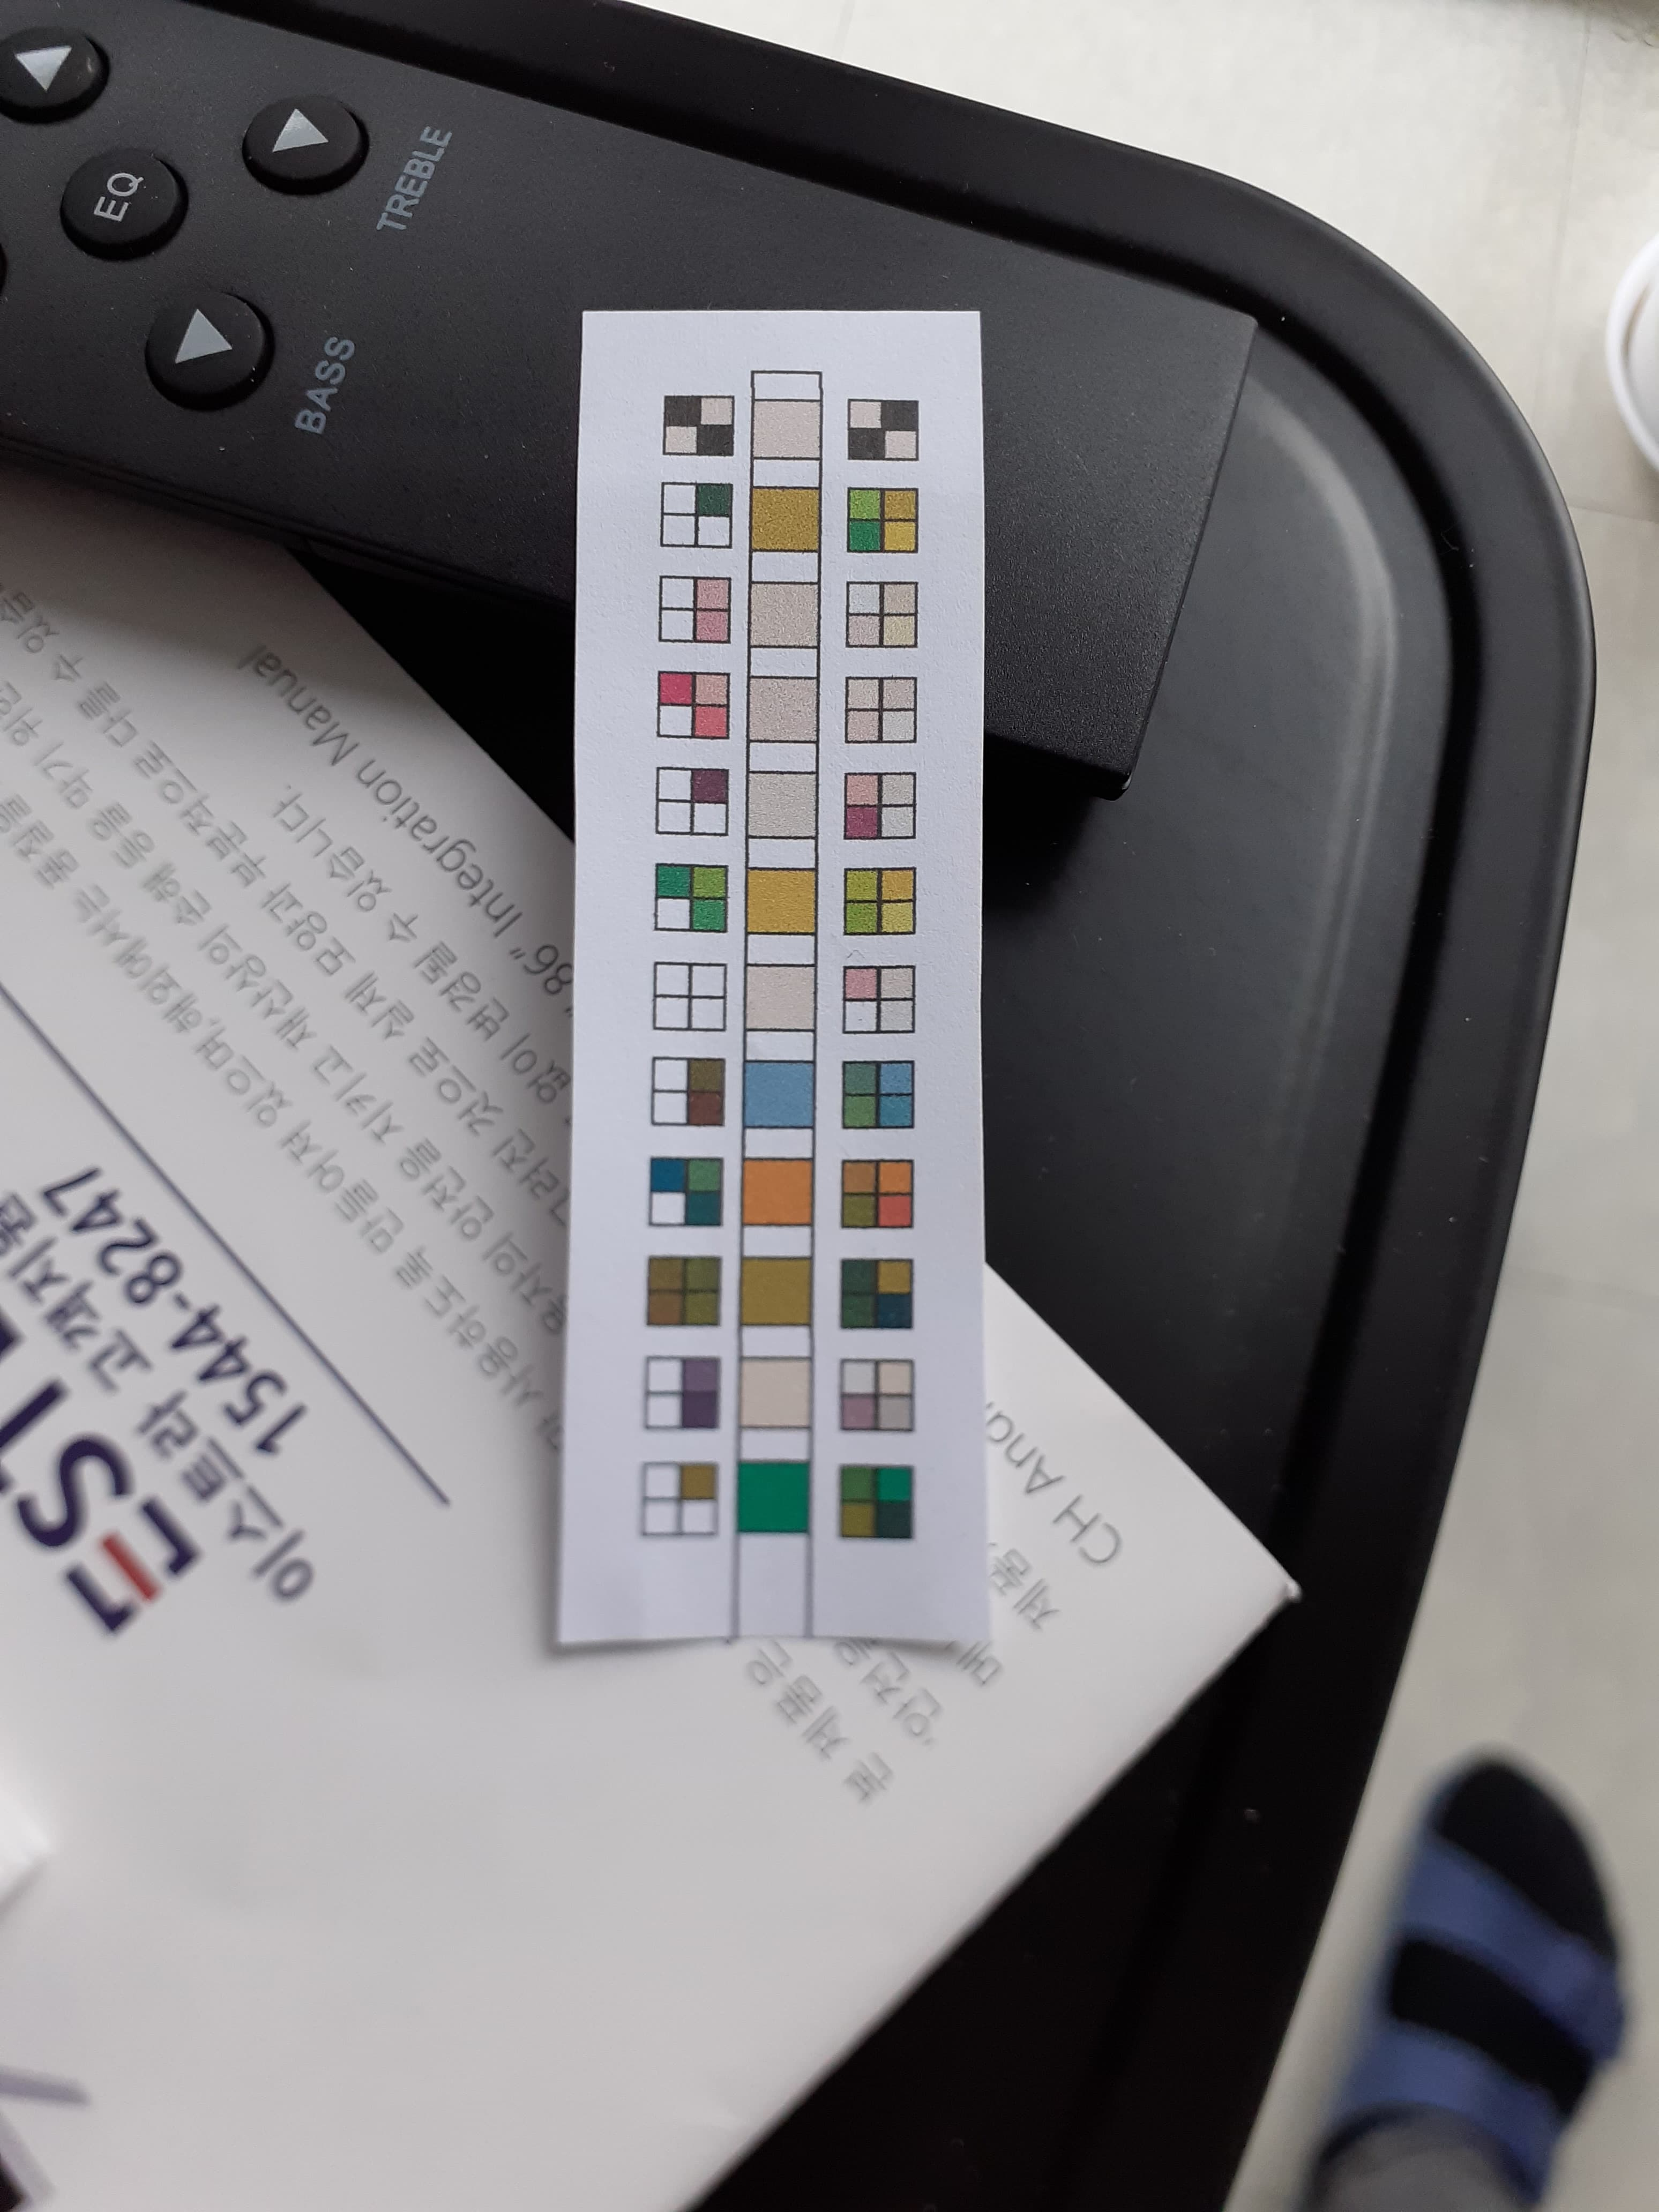tester: (577, 305, 985, 1648)
